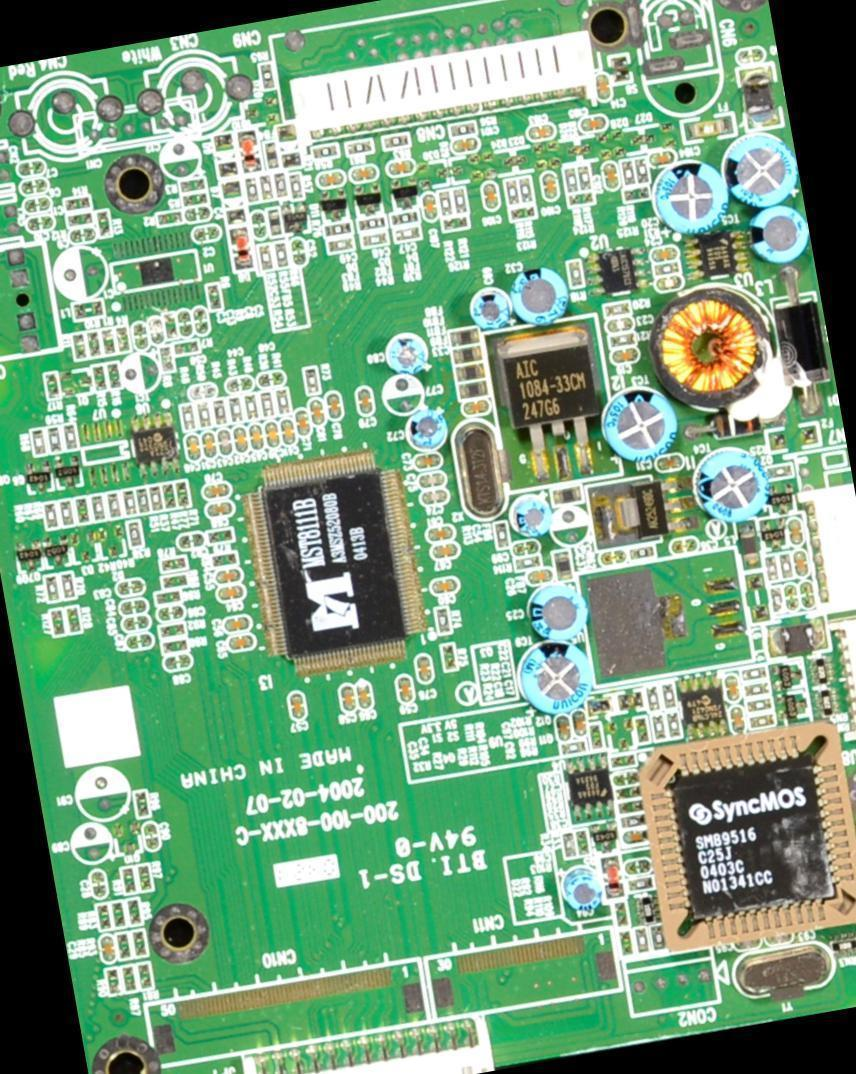Capacitor: (72, 764, 134, 822), (68, 818, 115, 868), (384, 157, 419, 181), (14, 155, 47, 179), (87, 867, 109, 902), (347, 164, 381, 186), (354, 680, 376, 713), (141, 820, 163, 853), (538, 171, 561, 202), (120, 613, 152, 635), (479, 182, 503, 211), (525, 123, 559, 143), (576, 115, 608, 136), (188, 380, 220, 401), (246, 421, 267, 453), (646, 148, 679, 168), (324, 391, 345, 422), (118, 596, 149, 617), (429, 576, 460, 597), (338, 683, 359, 714), (721, 672, 742, 703), (600, 161, 620, 193), (450, 135, 480, 156), (655, 452, 685, 473), (156, 603, 186, 624), (784, 517, 805, 547), (255, 370, 286, 390), (116, 578, 147, 598), (395, 674, 415, 705), (225, 374, 254, 395), (414, 653, 433, 685), (314, 170, 344, 190), (355, 387, 375, 417), (412, 451, 442, 471), (599, 548, 629, 568), (415, 470, 446, 489), (655, 273, 684, 293), (200, 429, 220, 458), (192, 306, 211, 336), (555, 714, 574, 744), (728, 704, 747, 734), (178, 531, 205, 552), (306, 399, 326, 427), (216, 565, 244, 585), (126, 632, 154, 652), (184, 433, 203, 462), (279, 418, 298, 447), (201, 481, 230, 500), (419, 487, 448, 506), (624, 857, 653, 876), (26, 215, 56, 233), (176, 307, 194, 337), (670, 536, 697, 556), (99, 934, 117, 964), (205, 500, 233, 519), (527, 567, 555, 586), (421, 192, 439, 221), (217, 428, 235, 457), (264, 420, 282, 449), (461, 399, 490, 417), (430, 541, 459, 559), (215, 585, 244, 603), (620, 829, 649, 847), (428, 524, 454, 544), (288, 693, 308, 719), (230, 427, 249, 454), (606, 316, 634, 334), (611, 348, 639, 366), (226, 634, 254, 652), (22, 197, 51, 214), (295, 409, 312, 438), (650, 245, 677, 263), (611, 769, 638, 787), (792, 549, 809, 577), (164, 655, 191, 672), (799, 581, 816, 608), (512, 539, 537, 557), (784, 583, 800, 610), (571, 711, 588, 736), (20, 180, 50, 194), (225, 615, 250, 631), (735, 937, 762, 951), (765, 932, 791, 946)
Connector: (798, 481, 855, 617), (833, 613, 855, 745)
IC: (235, 440, 432, 680), (667, 751, 837, 922), (562, 754, 616, 823), (677, 671, 729, 742), (683, 230, 749, 279), (133, 413, 183, 477), (589, 247, 650, 295)
Resistor: (360, 228, 391, 252), (517, 175, 538, 208), (502, 177, 522, 209), (325, 236, 357, 256), (125, 518, 145, 550), (664, 709, 685, 739), (61, 422, 81, 452), (206, 526, 236, 546), (585, 722, 605, 752), (287, 170, 305, 203), (618, 158, 637, 189), (271, 240, 290, 271), (171, 338, 202, 357), (395, 224, 424, 244), (44, 425, 64, 454), (136, 863, 154, 895), (631, 156, 650, 186), (273, 387, 292, 417), (159, 555, 189, 574), (112, 325, 132, 353), (616, 796, 644, 816), (303, 365, 321, 396), (173, 478, 191, 509), (603, 300, 632, 319), (765, 462, 794, 481), (105, 967, 124, 996), (60, 571, 78, 601), (160, 638, 190, 656), (434, 606, 452, 636), (441, 641, 459, 671), (768, 585, 786, 615), (133, 789, 151, 819), (562, 166, 581, 194), (89, 494, 108, 522), (762, 555, 781, 583), (743, 680, 771, 699), (567, 261, 585, 290), (653, 260, 682, 278), (122, 487, 140, 516), (634, 716, 652, 745), (650, 713, 668, 742), (748, 712, 777, 730), (95, 903, 113, 932), (618, 812, 645, 831), (100, 327, 117, 357), (122, 866, 139, 896), (157, 345, 175, 373), (43, 575, 61, 603), (64, 606, 82, 634), (130, 930, 148, 958), (258, 175, 275, 204), (576, 164, 593, 193), (162, 311, 179, 340), (180, 402, 197, 431), (210, 551, 239, 568), (158, 623, 187, 640), (558, 738, 587, 755), (451, 188, 469, 215), (205, 284, 223, 311), (211, 398, 229, 425), (49, 609, 67, 636), (741, 664, 768, 682), (644, 685, 662, 712), (272, 172, 289, 200), (257, 244, 274, 272), (86, 330, 103, 358), (243, 392, 260, 420), (74, 497, 91, 525), (493, 520, 510, 548), (659, 682, 676, 710), (116, 932, 133, 960), (437, 191, 455, 217), (162, 572, 188, 590), (148, 483, 164, 512), (575, 829, 591, 858), (105, 362, 122, 389), (30, 428, 47, 455), (196, 401, 213, 428), (259, 390, 276, 417), (609, 332, 636, 349), (229, 396, 246, 423), (121, 964, 138, 991), (612, 902, 629, 929), (161, 482, 177, 510), (126, 898, 142, 926), (44, 372, 61, 398), (43, 503, 60, 529), (107, 492, 123, 519), (154, 589, 181, 605), (515, 555, 542, 571), (778, 553, 794, 580), (614, 784, 641, 800), (137, 962, 153, 989), (243, 179, 260, 204), (92, 365, 108, 391), (111, 902, 127, 928), (562, 832, 578, 858), (57, 500, 74, 524), (747, 697, 772, 713), (72, 332, 87, 358), (135, 487, 150, 513), (627, 877, 653, 892), (619, 930, 634, 956), (610, 753, 635, 768), (634, 928, 649, 953), (651, 925, 666, 949)
Transistor: (764, 477, 796, 516), (605, 717, 638, 754), (52, 452, 82, 488), (758, 517, 788, 552), (589, 822, 619, 857), (770, 661, 803, 692), (14, 538, 42, 572), (778, 692, 809, 722), (25, 459, 52, 492), (43, 536, 69, 568)
